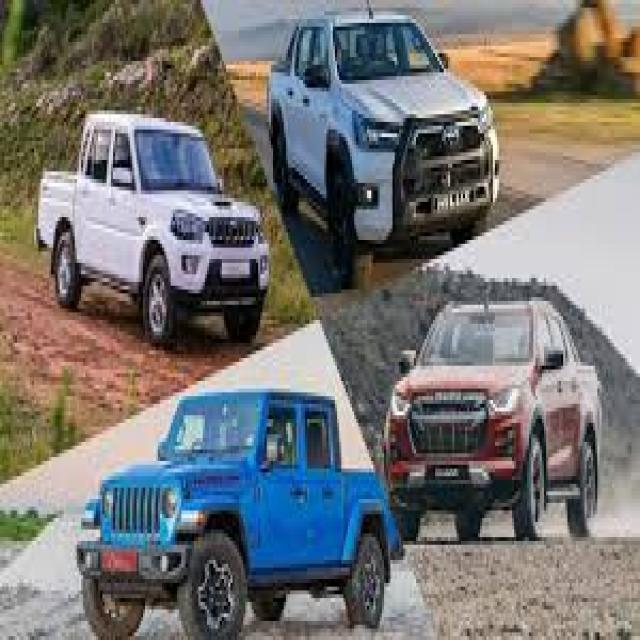Pickup Trucks: (77, 392, 401, 636), (269, 8, 503, 282), (40, 110, 271, 347), (388, 297, 602, 541)
